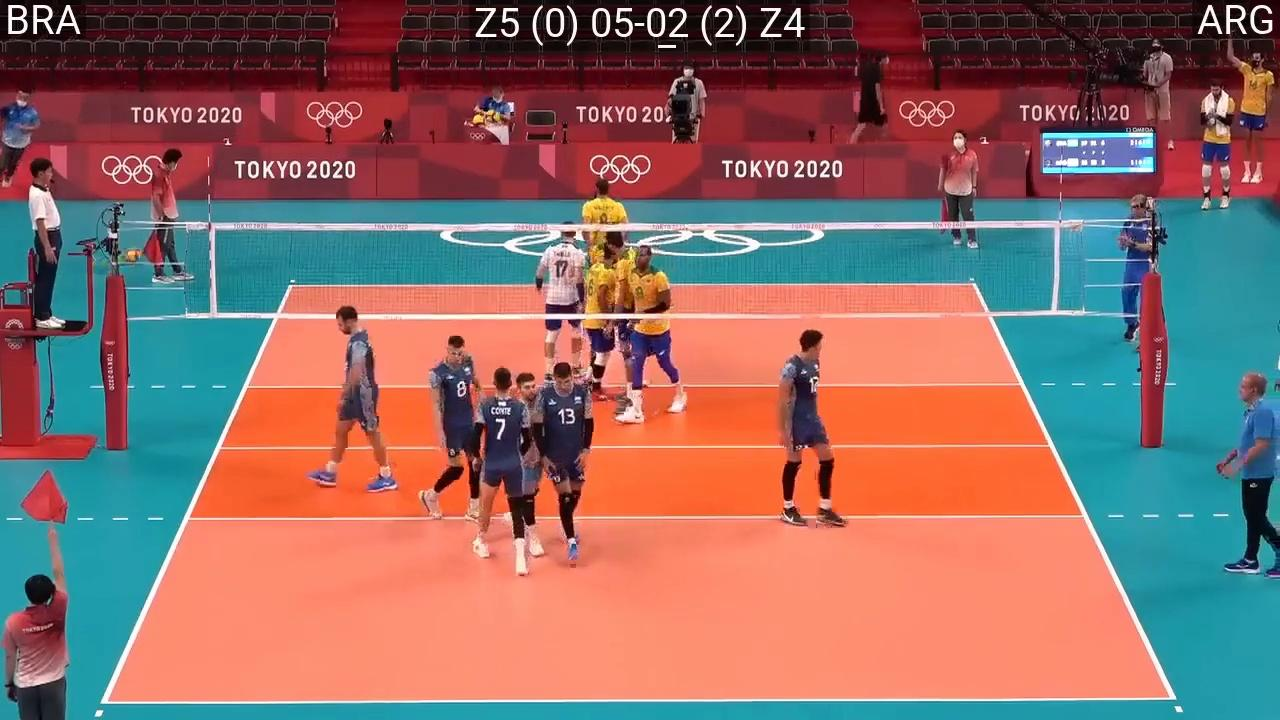ball: (124, 248, 141, 263)
